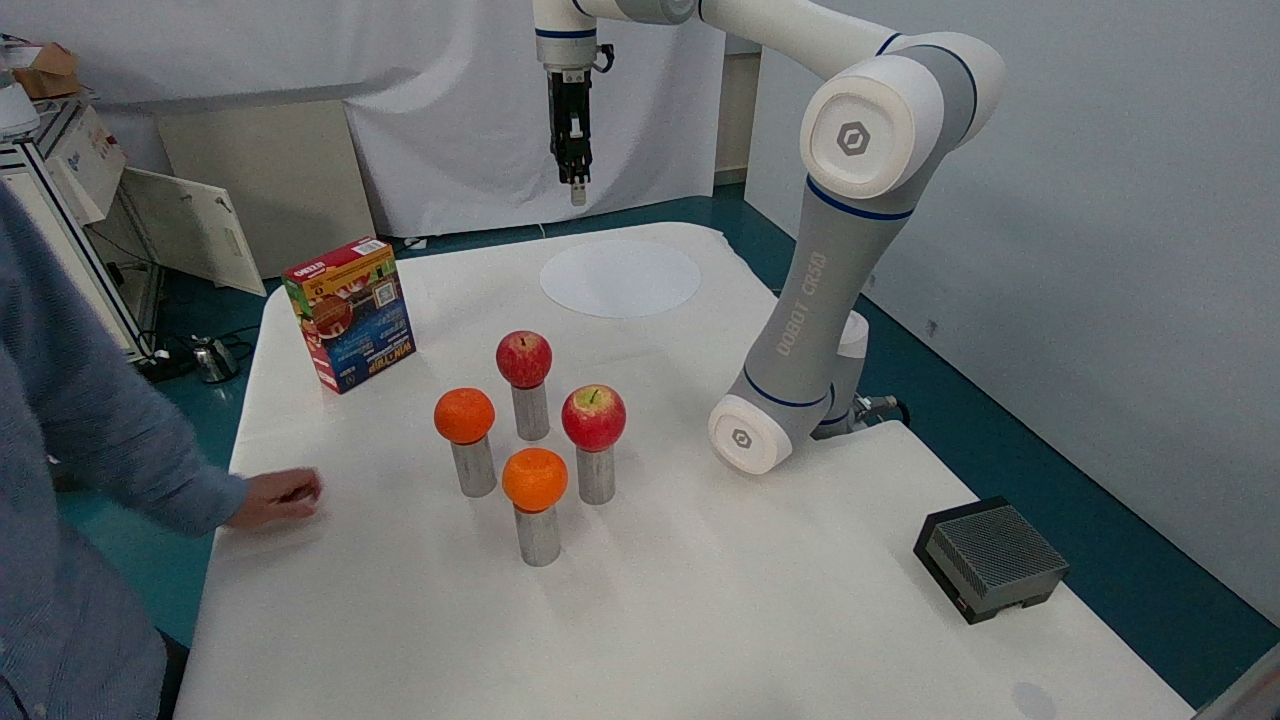apple: (554, 364, 644, 458), (486, 309, 559, 394)
metal rod: (499, 494, 570, 588), (565, 443, 633, 514), (498, 373, 556, 456), (435, 432, 503, 498)
orange: (484, 425, 583, 515), (414, 377, 506, 448)
